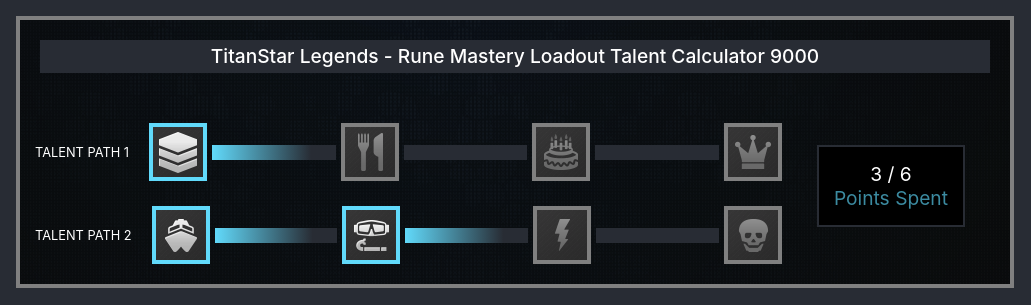
it: TalentTree › Mouse Events() › deactivate talent
Right-click the 6th button: (371, 235) [342,206,400,264]
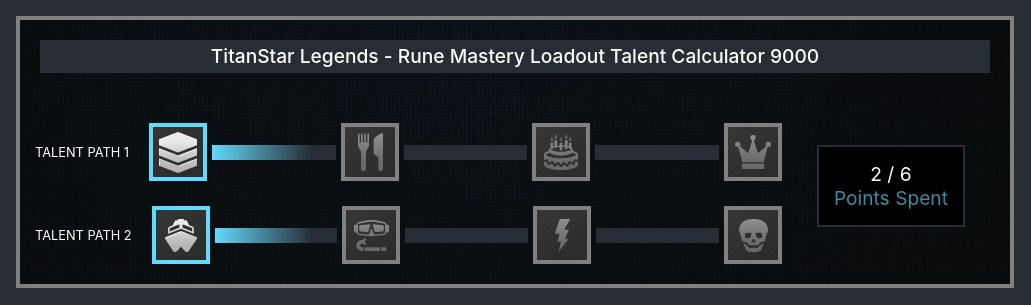
Expected: the text "2 / 6" is shown, [870,162,912,186]
